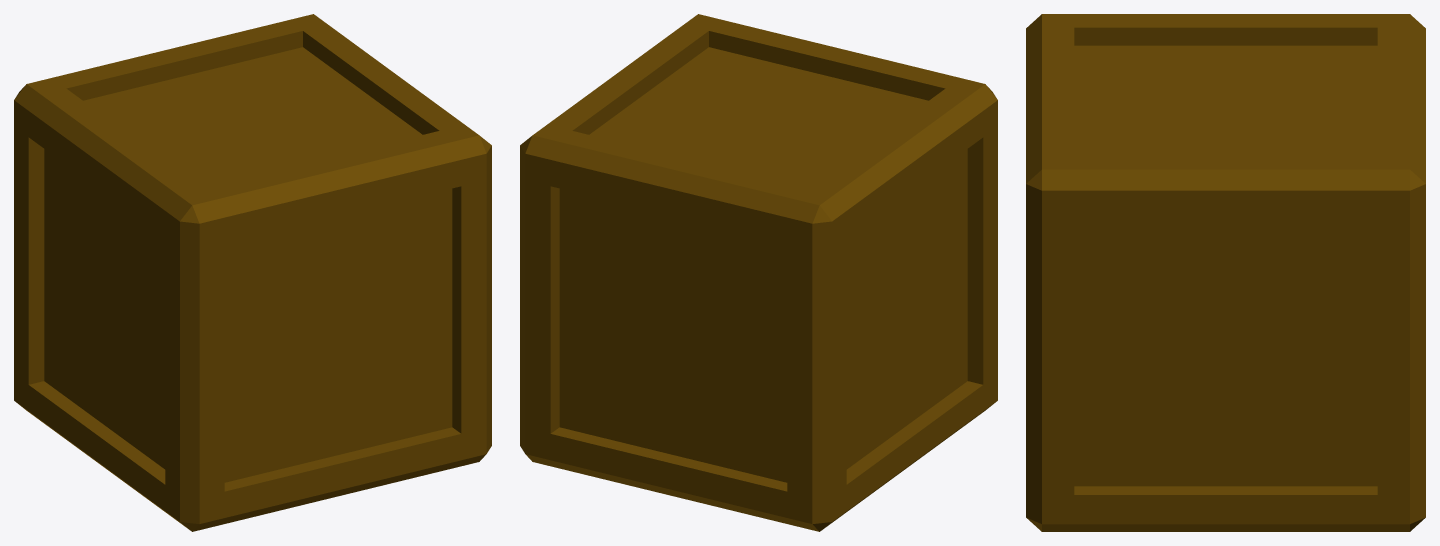
File: MarshCrate.fbx
3 renders of one model, left to right at view 1: azimuth 30°, elevation 25°; view 2: azimuth 150°, elevation 25°; view 3: azimuth 270°, elevation 25°, orthographic. The views are drawn at different scales.
Visible parts, largest first — view 1: Crate; view 2: Crate; view 3: Crate.
Boxes of the visible parts, x1,y1,x2,y2 form: Crate: [14, 14, 491, 531]; Crate: [520, 14, 997, 531]; Crate: [1026, 14, 1425, 531].
Size of the model in its own units: 1 by 1 by 1.
